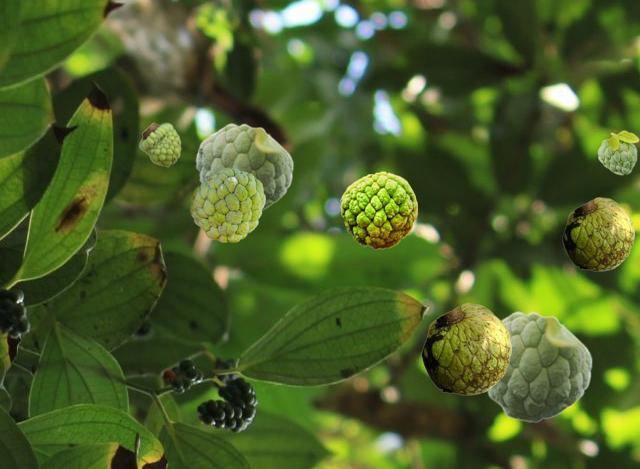atis: (487, 311, 592, 421), (195, 123, 293, 210), (421, 303, 510, 394), (340, 171, 416, 248), (190, 168, 264, 241), (562, 197, 633, 270), (597, 130, 638, 174), (139, 122, 180, 166)
